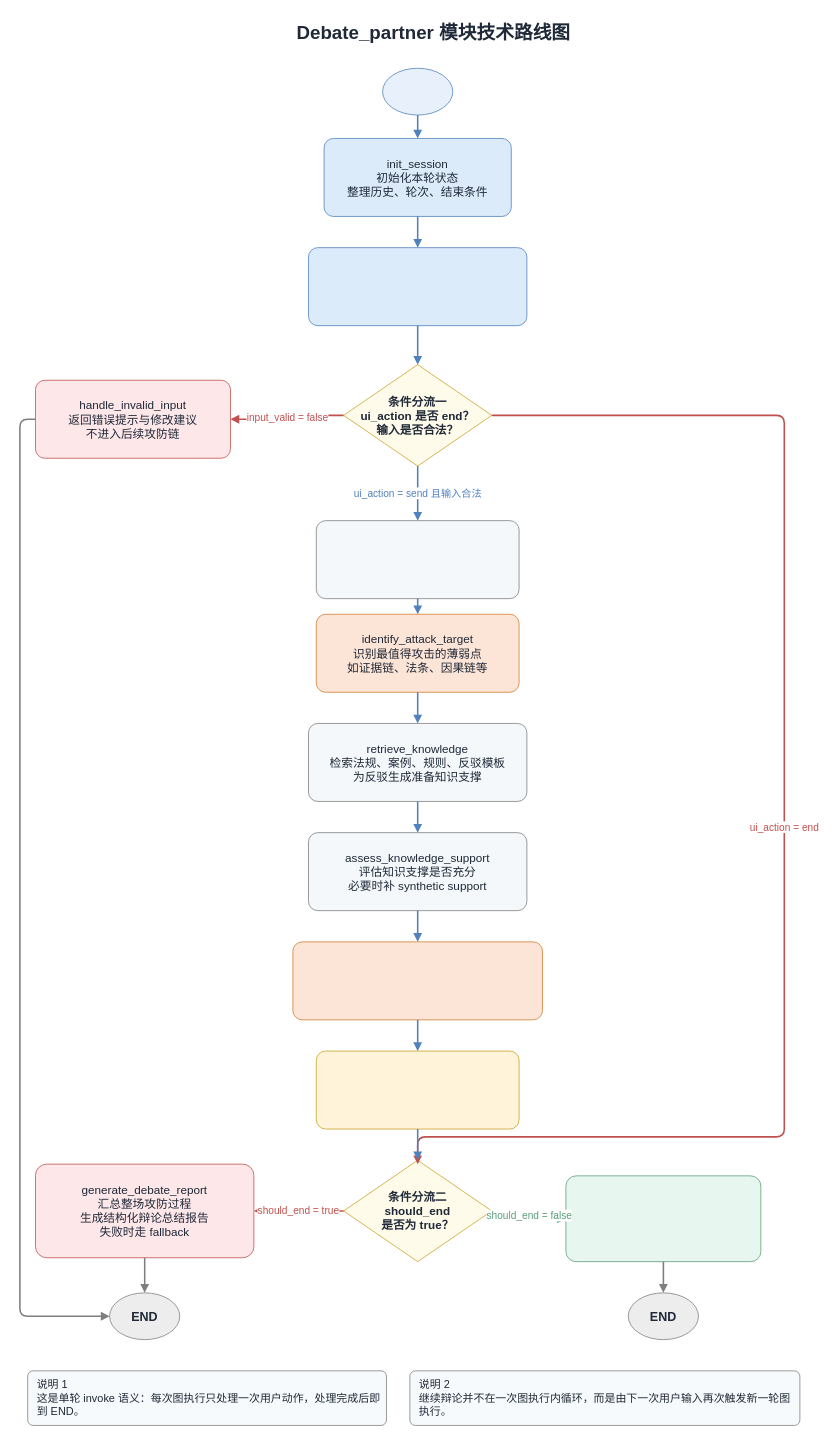
Image size: 832x1439. Some labels were removed from this diagram. The shapes that lost their labels are listed below. From the top down, each one's centre as x and y in pixels, then its label:
At (417,91): "START".
At (417,286): "fetch_user_input 读取并规范化输入 校验空输入、超长输入、send/end".
At (417,559): "parse_user_claim 解析主张、证据、法条、诉求 判断是否有新论点".
At (417,980): "build_counterargument 生成结构化反驳与追问 带引用检查、角色漂移修正、失败兜底".
At (417,1089): "judge_continue_or_end 判断继续还是结束 依据用户动作与最大轮次".
At (663,1218): "ask_next_challenge 压缩输出为 “核心反驳 + 进一步追问” 写入历史并结束本轮".
